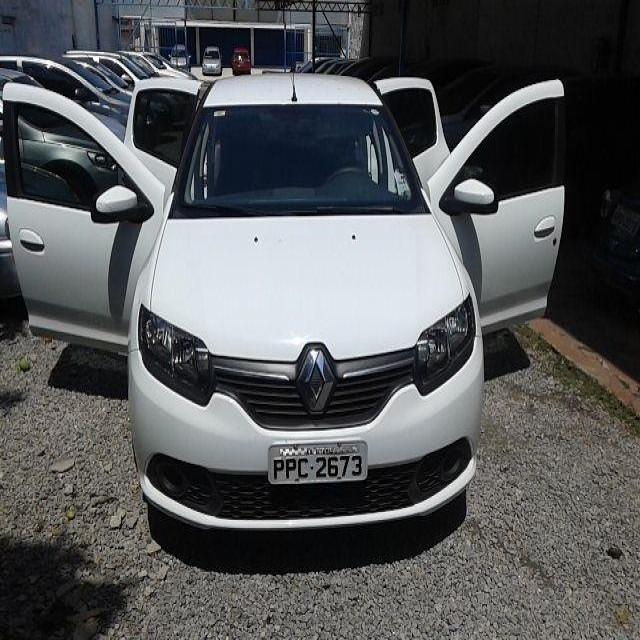Placa: (266, 435, 370, 491)
